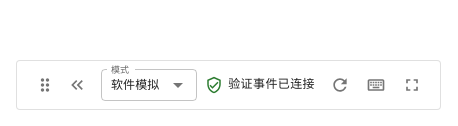
Test: global browser mode controls › starts native globally without create/get request IDs and confirms both helper and engine before green
The width and height of the screenshot is (458, 126).
Press the mouse on the dropdown named "模式": (135, 85) left=111, top=78, right=160, bottom=92
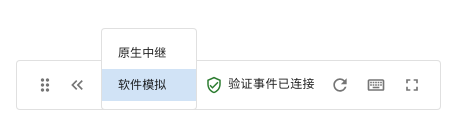
Click the option "原生中继": (142, 53) left=118, top=46, right=166, bottom=60
Wait 1000 ms
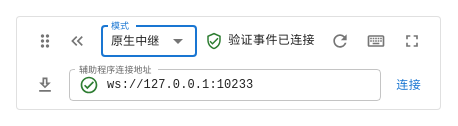
Check: the field labelled "辅助程序连接地址" holds "ws://127.0.0.1:10233", box left=107, top=69, right=381, bottom=101
Check: the picture named "助手与原生引擎已连接" is shown, box left=79, top=75, right=99, bottom=95
Check: the button "连接" is enabled, box left=389, top=69, right=428, bottom=101
